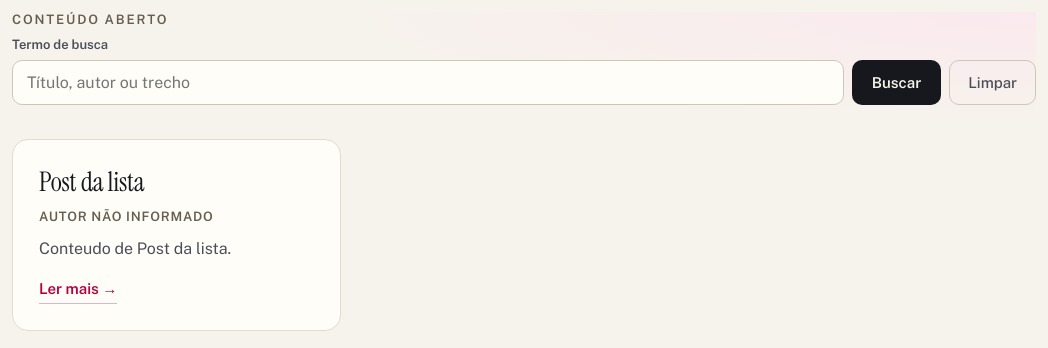
Test: busca sem resultado mostra uma mensagem diferente da lista vazia
Expected: the heading "Post da lista" is shown, top-left (39, 164), bottom-right (144, 199)
Type "nada-aqui" into the search field labelled "Termo de busca".
click(428, 82); type("nada-aqui")  # box top-left (12, 60), bottom-right (844, 105)
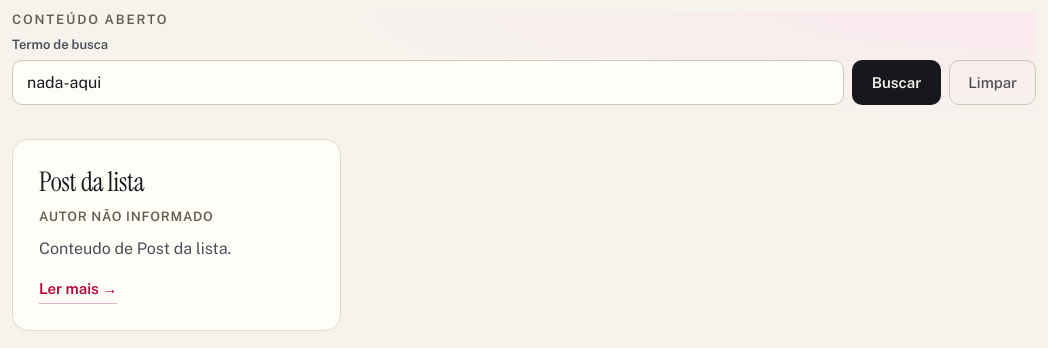
Click the button "Buscar".
click(897, 82)  # box top-left (852, 60), bottom-right (941, 105)
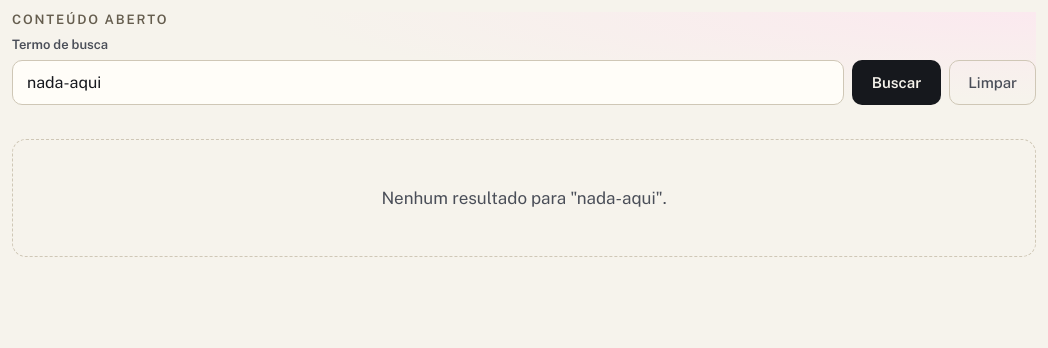
Expected: the text "Nenhum resultado para \"nada-aqui\"." is shown, top-left (381, 188), bottom-right (667, 208)
